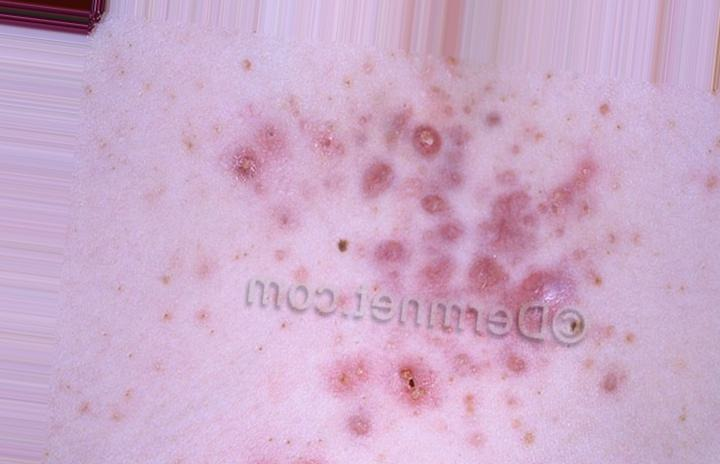Acne: (218, 63, 634, 440)
